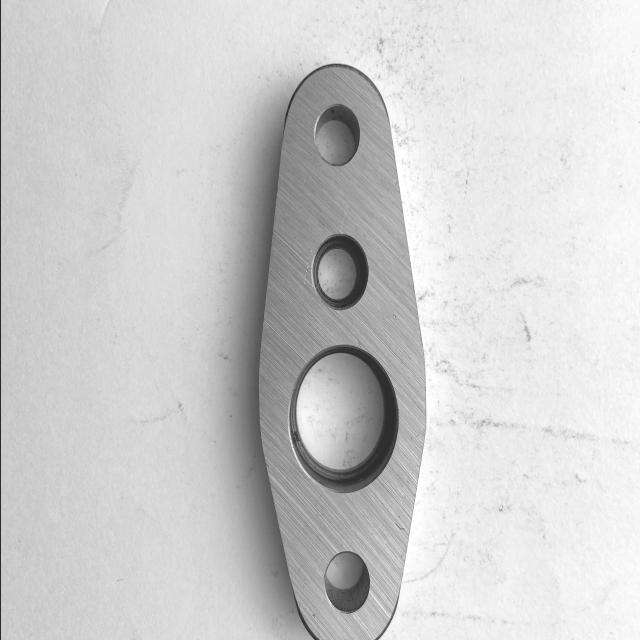chap: (300, 244, 312, 288), (391, 313, 397, 321)
lines: (393, 520, 405, 532)
